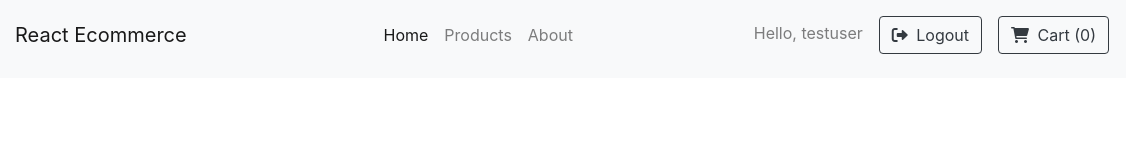
Test: Navbar Component › handles logout correctly
The width and height of the screenshot is (1126, 160).
Click the button "Logout". click: x=930, y=35
box: [879,16,982,54]
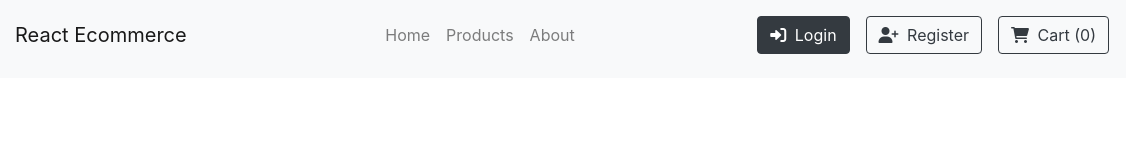
Check: the link "Login" is shown, box [757,16,850,54]
Check: the link "Register" is shown, box [866,16,982,54]
